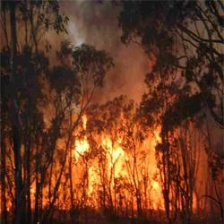fire: (45, 111, 198, 218)
